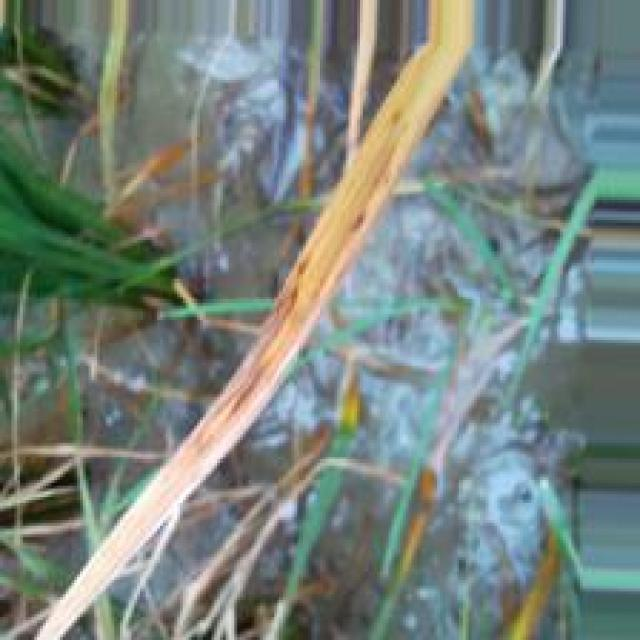Bacterial_Leaf_Blight: (35, 46, 468, 639)
